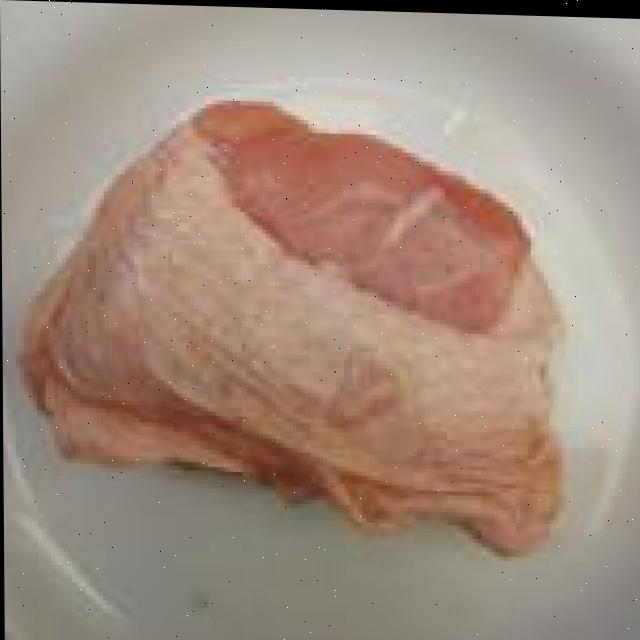breast: (35, 90, 562, 546)
